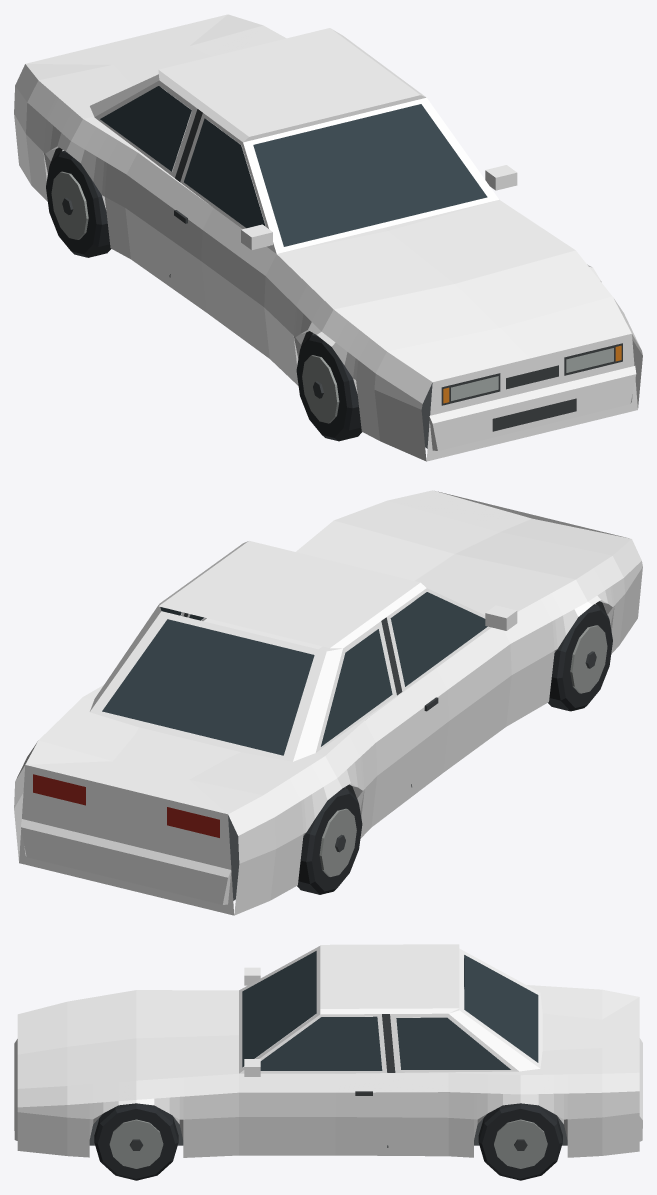
Rendered from tokiwa_seiryu.glb.
3 renders of one model, top to bottom at view 1: azimuth 30°, elevation 25°; view 2: azimuth 150°, elevation 25°; view 3: azimuth 270°, elevation 25°, orthographic. The views are drawn at different scales.
Parts seen in each view (by area): view 1: tokiwa_seiryu; view 2: tokiwa_seiryu; view 3: tokiwa_seiryu.
Part boxes in pixels (x1=…): tokiwa_seiryu: x1=14, y1=14, x2=642, y2=461; tokiwa_seiryu: x1=14, y1=490, x2=642, y2=915; tokiwa_seiryu: x1=14, y1=944, x2=642, y2=1180.
Size of the model in its own units: 1.8 by 1.27 by 4.63.
Materials: 8 (1 with a texture image).
